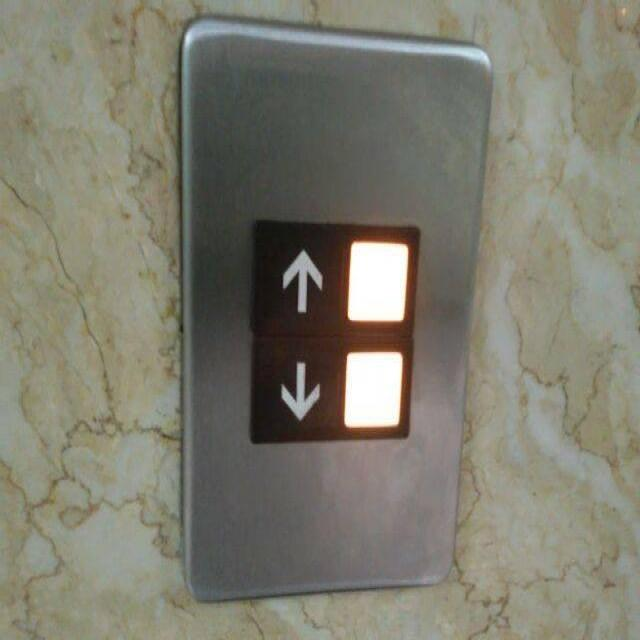down: (243, 330, 414, 446)
up: (245, 215, 423, 340)
